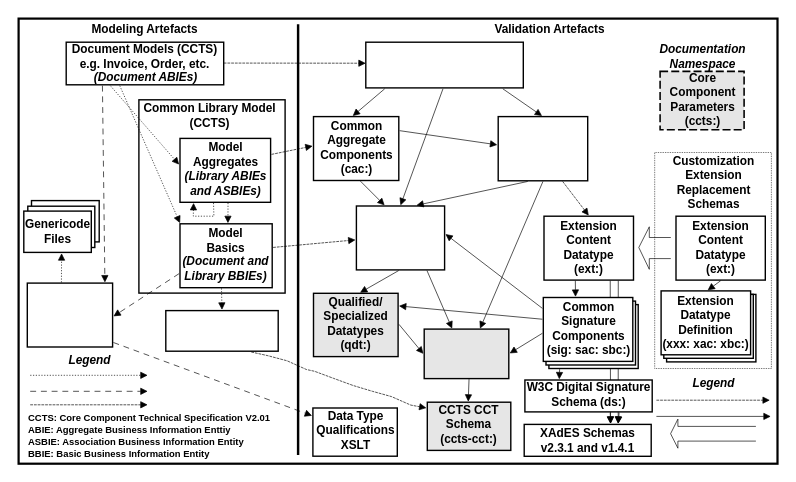
The diagram is 796 pixels wide and 482 high, and some of its shapes have lost their labels. Here are the shapes that lost their labels. From the top down, the centre of each, then its label:
At pixel 444 64: "Document Schema e.g. Invoice, Order, etc. (document namespace)".
At pixel 542 148: "Common Extension Components (ext:)".
At pixel 400 237: "Common Basic Components (cbc:)".
At pixel 69 314: "Context Value Association File".
At pixel 221 330: "Core Component Types (CCTS)".
At pixel 466 353: "Unqualified Datatypes (udt:)".
